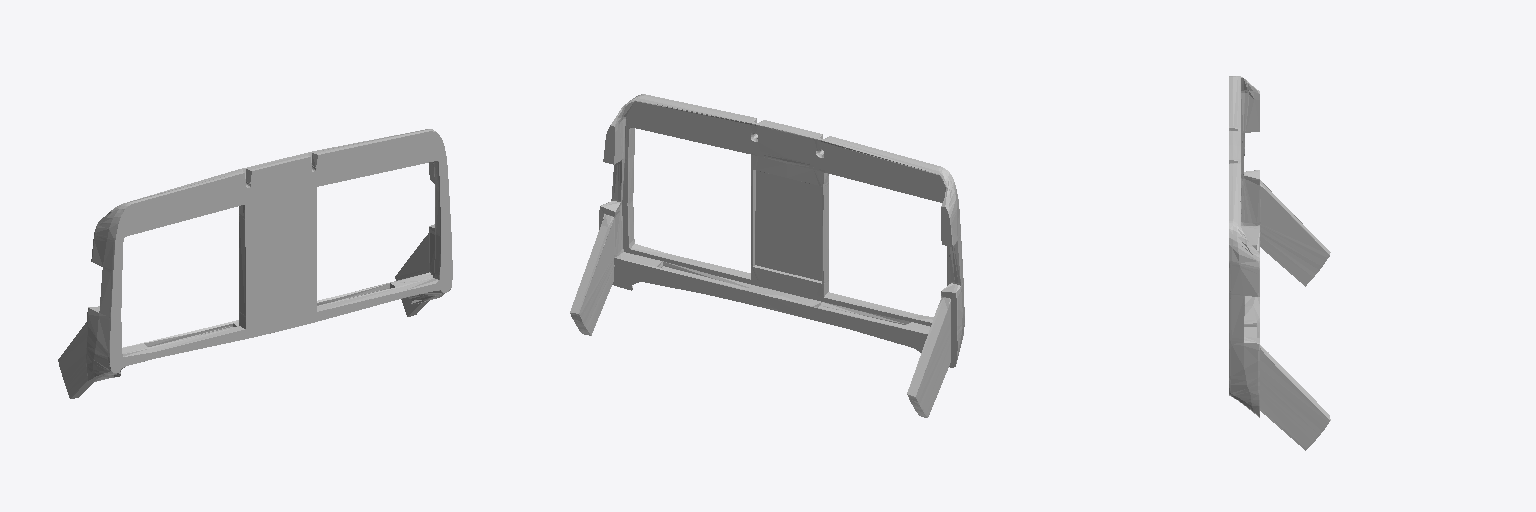
Rendered from Headset_PhoneHolder_Front.obj.
3 views of the same model, side by side, from view 1: azimuth 30°, elevation 25°; view 2: azimuth 150°, elevation 25°; view 3: azimuth 270°, elevation 25° (orthographic).
Visible parts, largest first — view 1: s.0014; view 2: s.0014; view 3: s.0014.
Part boxes in pixels (x1,y1,x2,y2): s.0014: (58, 129, 452, 398); s.0014: (570, 94, 964, 417); s.0014: (1229, 76, 1330, 450).
Size of the model in its own units: 183 by 108 by 44.66.